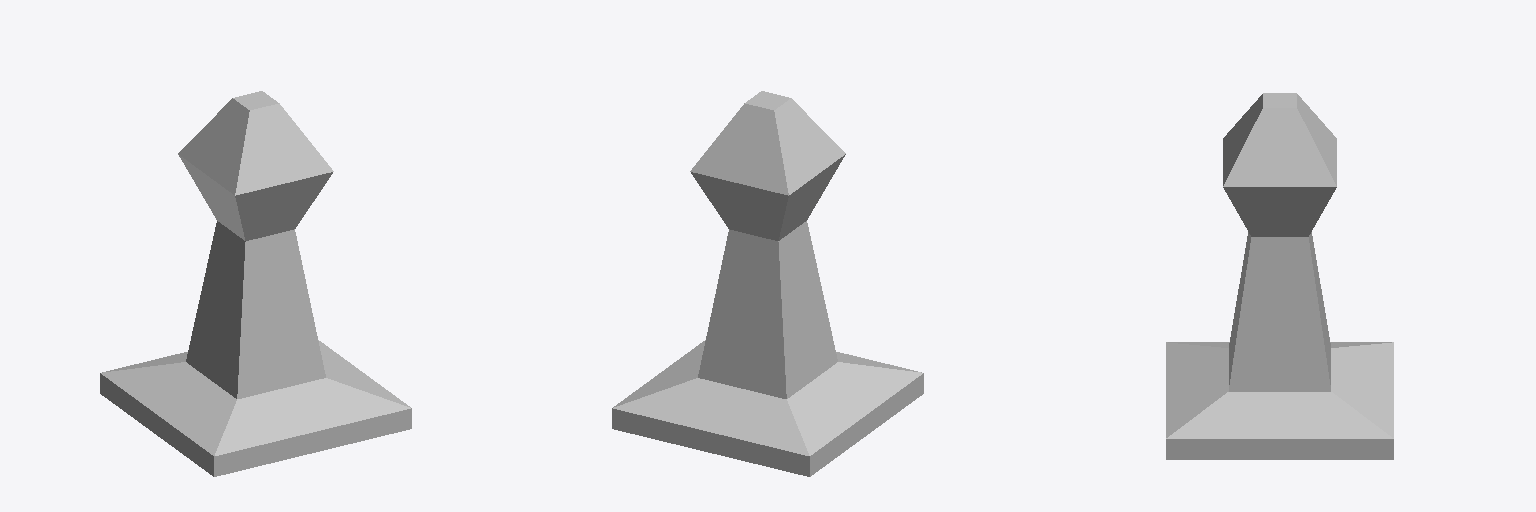
Rendered from Piece_Pawn.obj.
3 views of the same model, side by side, from view 1: azimuth 30°, elevation 25°; view 2: azimuth 150°, elevation 25°; view 3: azimuth 270°, elevation 25° (orthographic).
Visible parts, largest first — view 1: Piece_Pawn_Cube; view 2: Piece_Pawn_Cube; view 3: Piece_Pawn_Cube.
Boxes of the visible parts, <box> form: Piece_Pawn_Cube: <box>100,91,411,476</box>; Piece_Pawn_Cube: <box>612,91,923,476</box>; Piece_Pawn_Cube: <box>1166,93,1393,459</box>.
Size of the model in its own units: 1 by 1.5 by 1.